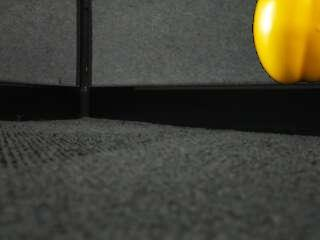Capsicum: (252, 0, 320, 86)
